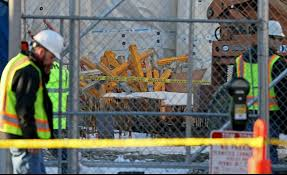helmet: (35, 30, 61, 57), (269, 20, 285, 36)
vest: (7, 56, 51, 141), (239, 57, 279, 112)
